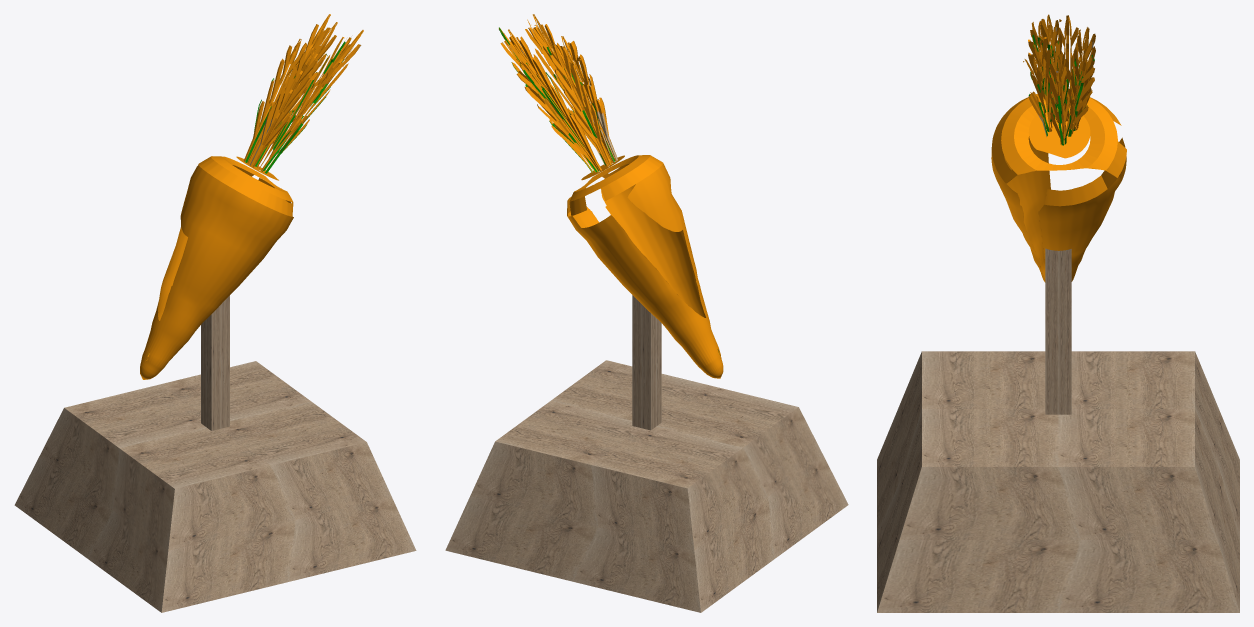
Rendered from Trophy_Charrot.fbx.
The picture shows the model from 3 angles, left to right: view 1: azimuth 30°, elevation 25°; view 2: azimuth 150°, elevation 25°; view 3: azimuth 270°, elevation 25°; orthographic projection. The views are drawn at different scales.
Parts seen in each view (by area): view 1: 立方体; view 2: 立方体; view 3: 立方体.
Part boxes in pixels (bbox=[...]): 立方体: bbox=[14, 14, 416, 612]; 立方体: bbox=[445, 14, 848, 612]; 立方体: bbox=[877, 14, 1239, 612].
Size of the model in its own units: 29.42 by 48.98 by 27.19.
